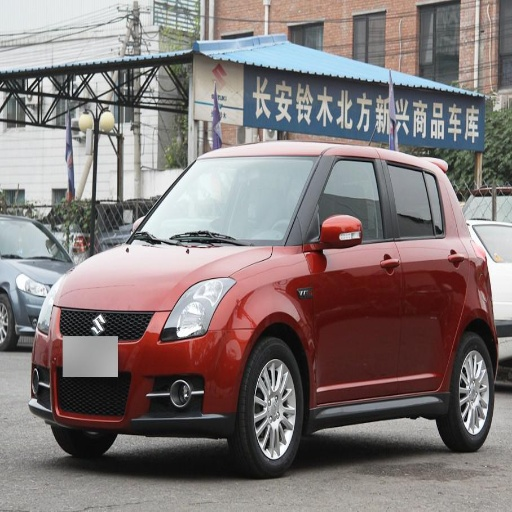front_bumper: (32, 304, 252, 431)
front_glass: (129, 159, 320, 243)
front_left_door: (300, 154, 402, 403)
